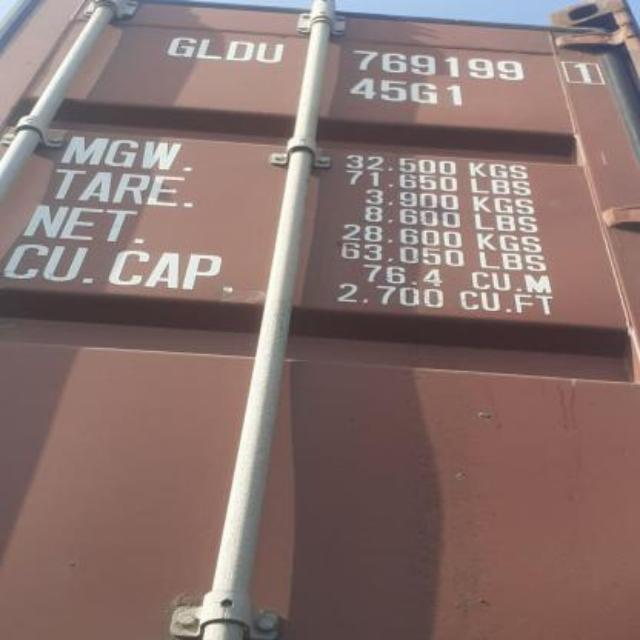1: (567, 59, 603, 85), (442, 50, 468, 80)
6: (382, 45, 406, 77)
7: (353, 42, 377, 74)
9: (494, 54, 524, 82), (466, 54, 494, 80), (408, 51, 434, 77)
D: (226, 36, 254, 66)
G: (166, 32, 196, 58)
L: (198, 34, 220, 64)
U: (254, 34, 284, 66)
